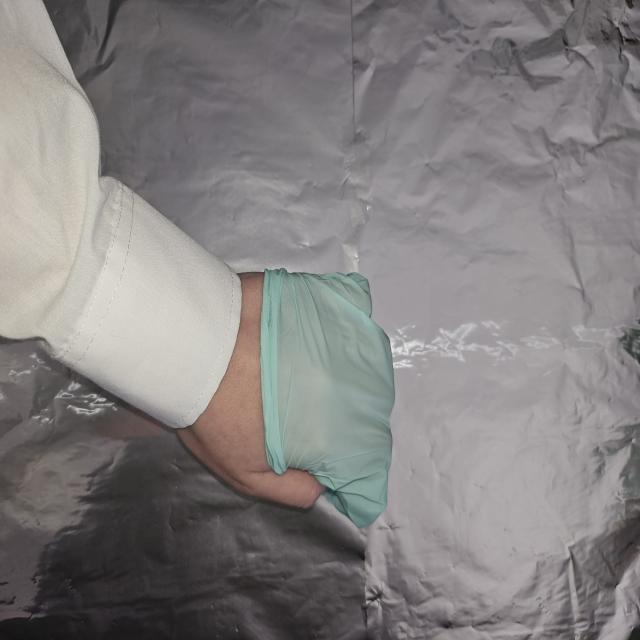glove_partial: (177, 267, 396, 530)
